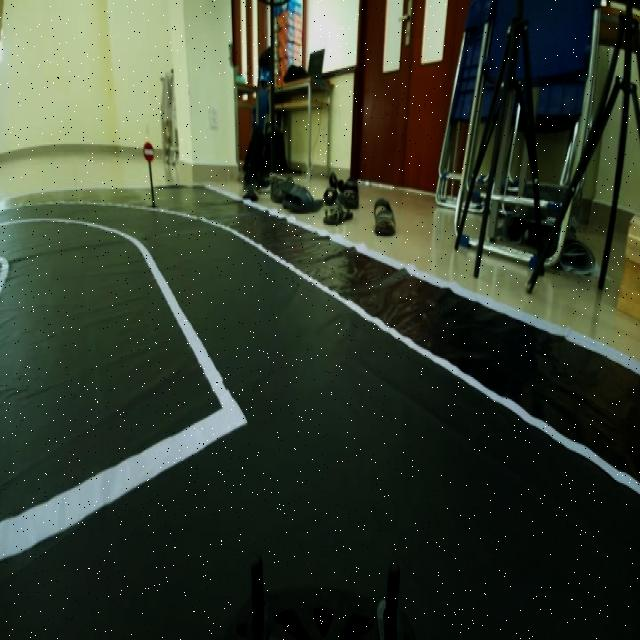no_entry: (138, 141, 158, 166)
